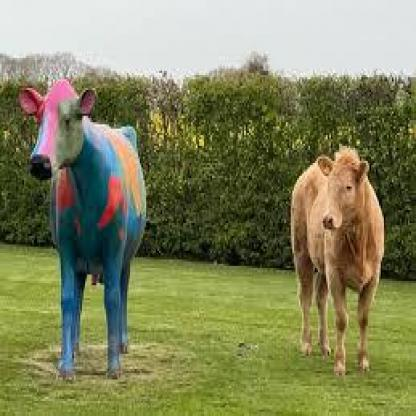cow: (18, 77, 146, 380), (290, 147, 385, 376)
